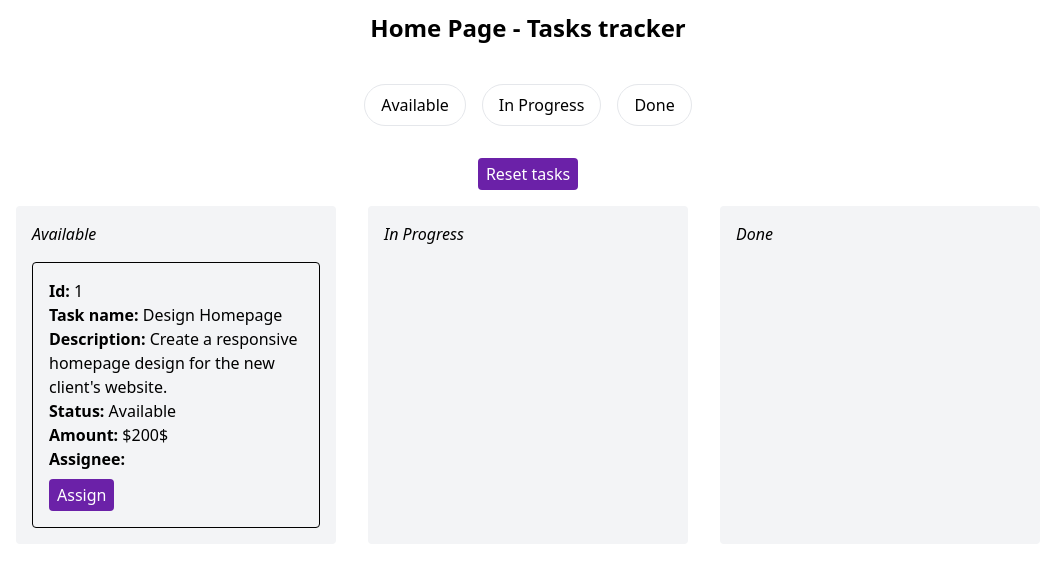
Test case: TasksTracker › should assign current logged in user to task when clicking assign button
Click the button "Assign" at (82, 495), box [49, 479, 114, 511]
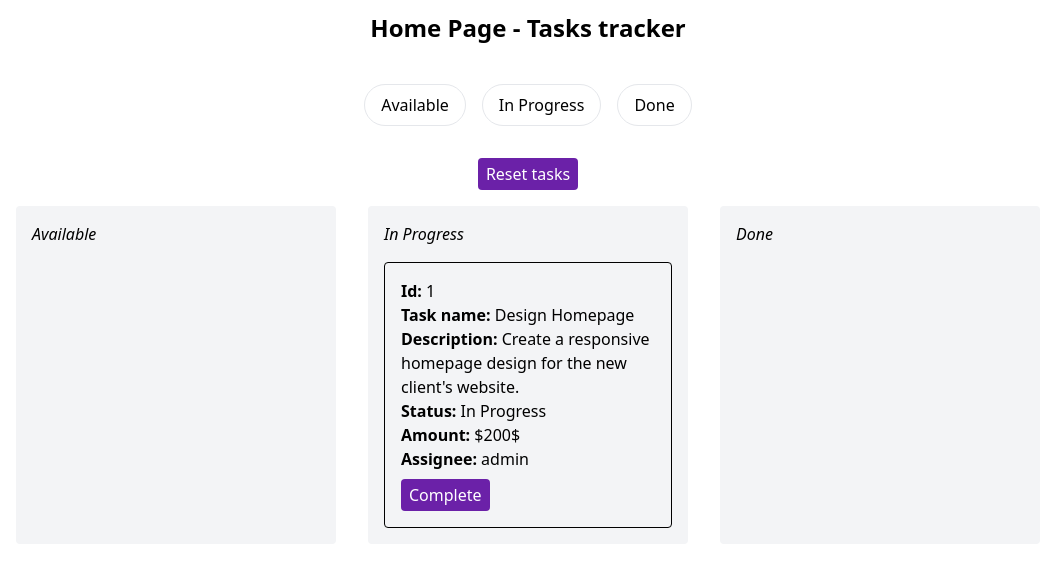
Check: the text "admin" is shown, box [481, 448, 529, 470]
